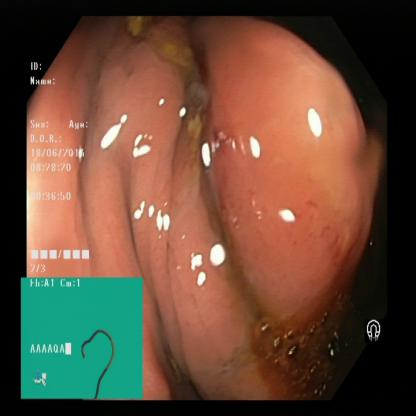Labels: (24, 57, 106, 279), (17, 276, 146, 398), (360, 321, 396, 348)
Polyps: (212, 22, 377, 308)
